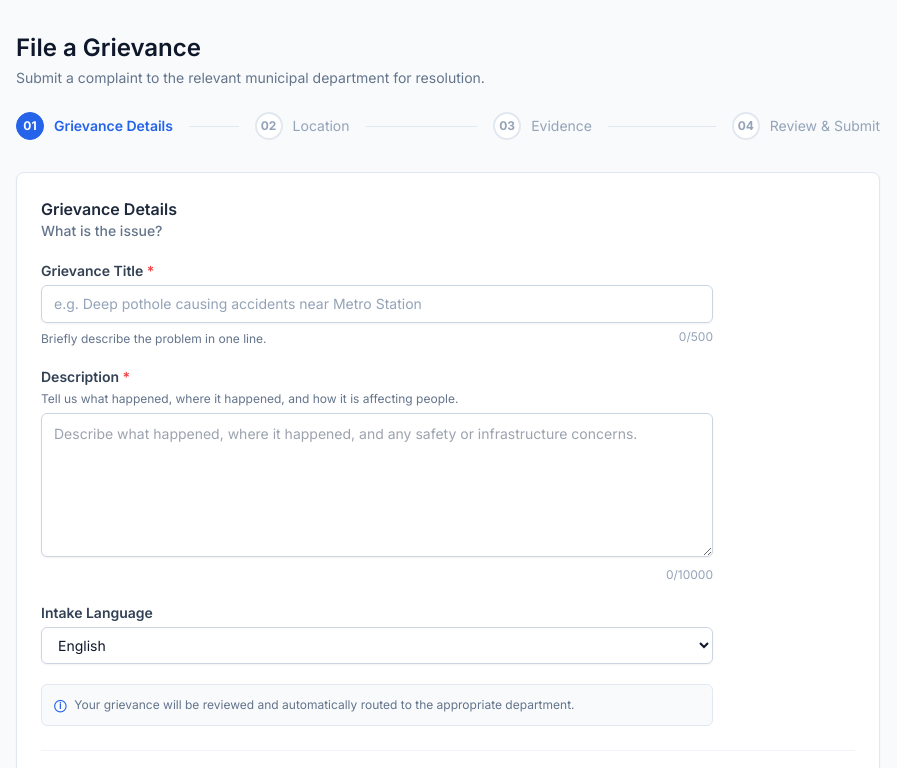
Scenario: Citizen Complaint Form, Hinglish Support & Error Handling › submits Hinglish complaint when Hinglish option is selected
The width and height of the screenshot is (897, 768).
# Select Hinglish
Select "Hinglish (Hindi in Latin script)" in the dropdown: (377, 646) [41,627,713,664]
# Fill details
In the field with placeholder "e.g. Deep pothole causing accidents near Metro Station": (377, 304) [41,285,713,323], type "Water pipeline leak ho rahi hai"
Replace the text in the text box with placeholder "Describe what happened" with "Hamare area mein main water pipeline bahut badly leak ho rahi hai.": (377, 485) [41,413,713,557]
(page scrolled)
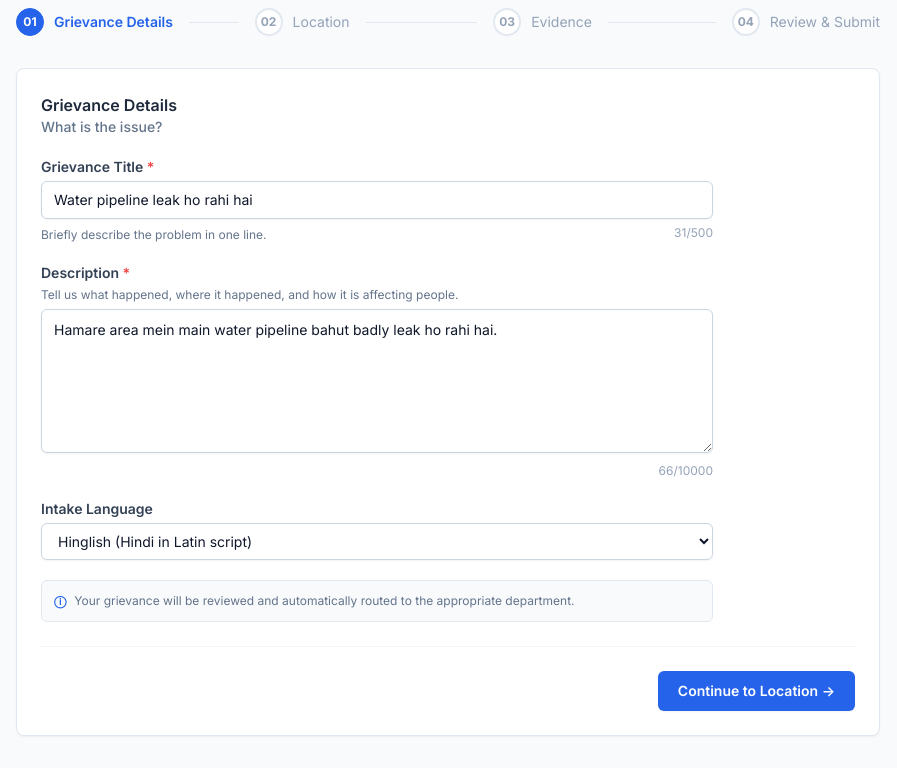
Click the button "Continue to Location →": (756, 691) [658,671,855,711]
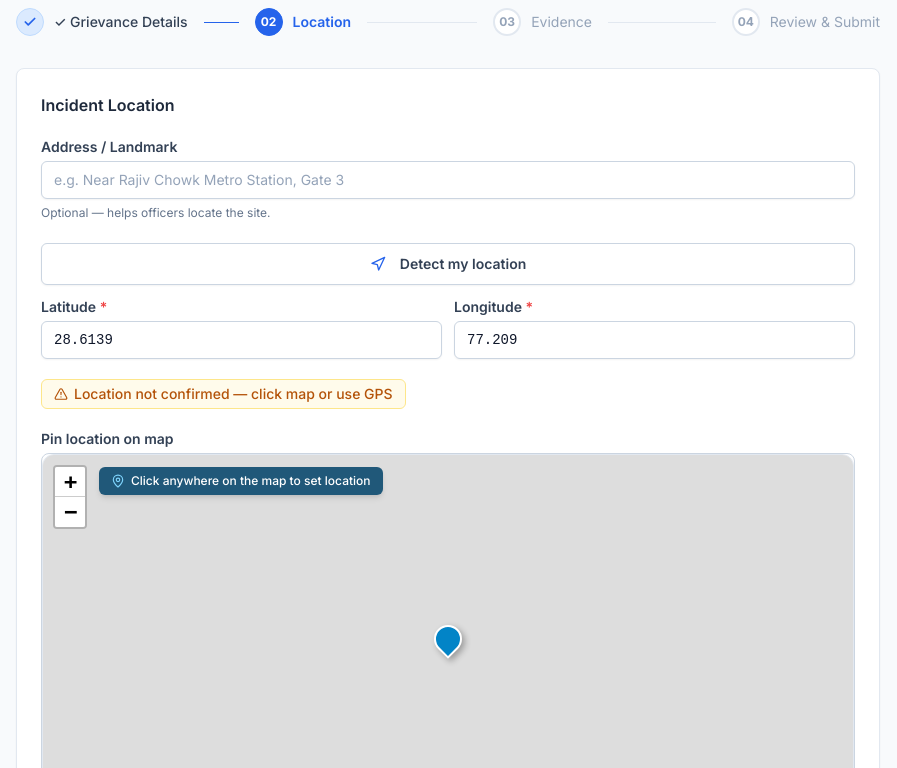
# Confirm location
Replace the text in the number field labelled "Latitude *" with "28.6140": (242, 340) [41,321,442,359]
(page scrolled)
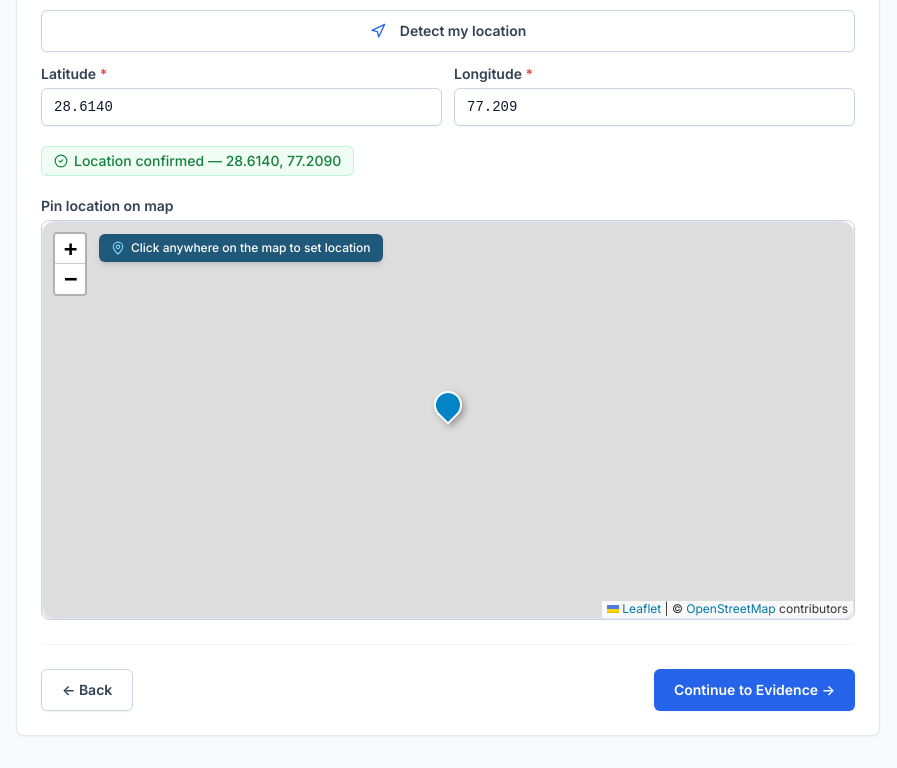
Click the button "Continue to Evidence →": (754, 690) [654,669,855,711]
(page scrolled)
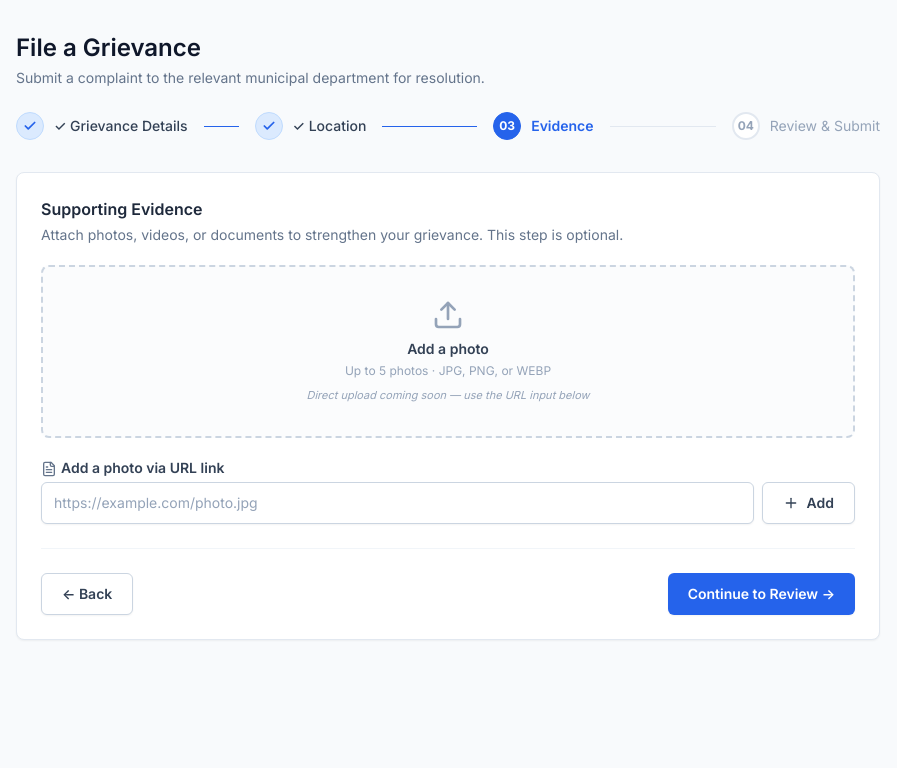
# Step 3 & 4
Click the button "Continue to Review →": (761, 594) [668,572,855,614]
(page scrolled)
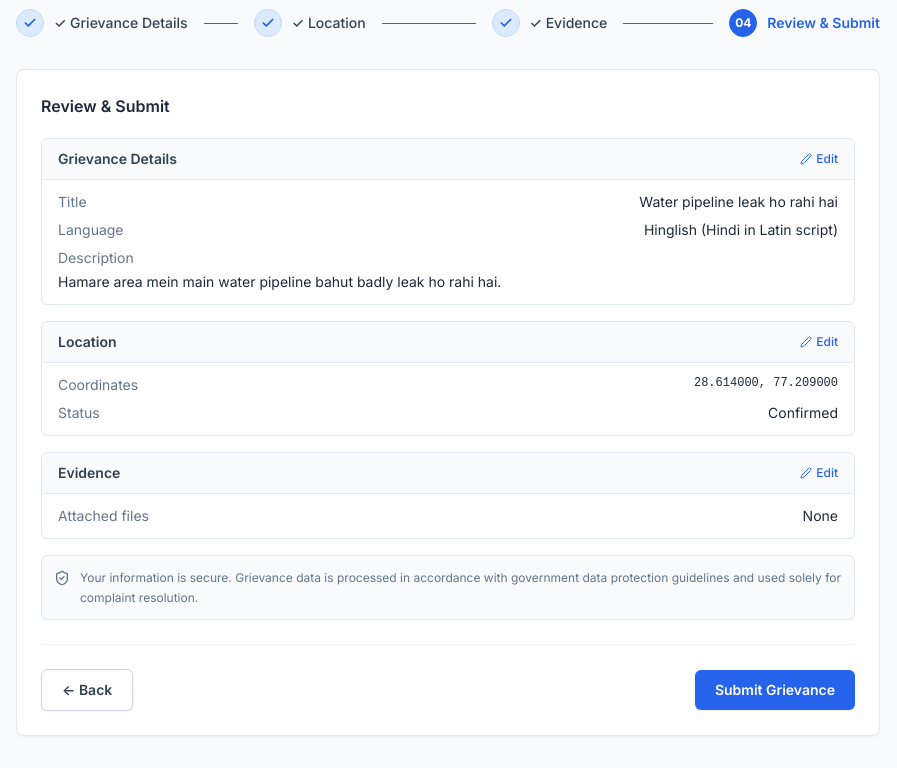
Click the button "Submit Grievance": (775, 690) [695,670,855,710]
(page scrolled)
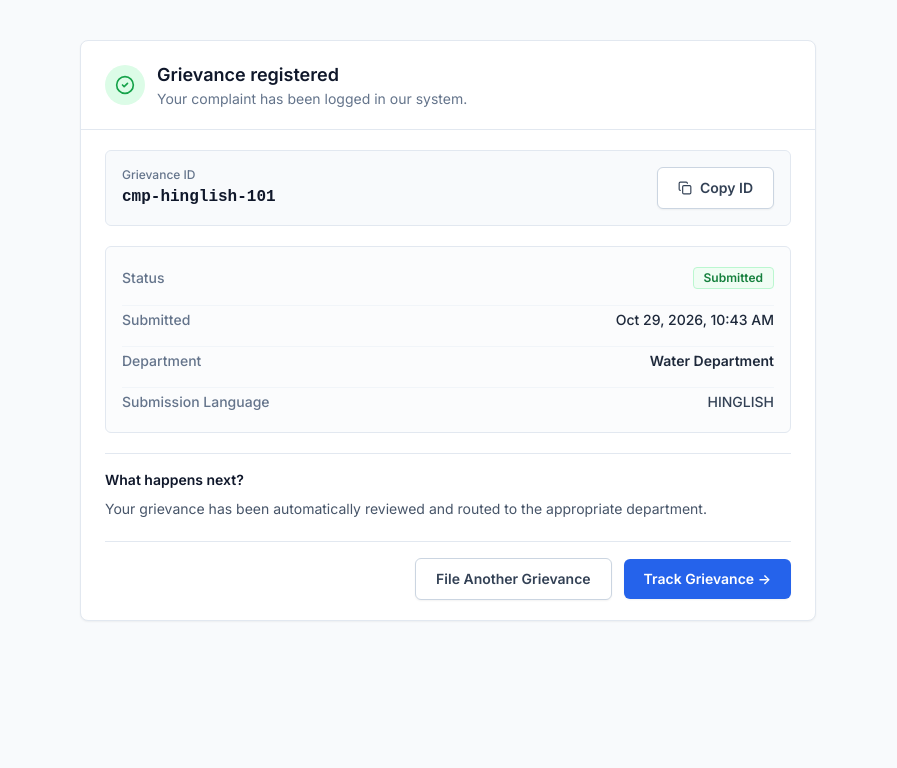
Result: the heading "Grievance registered" is shown at [157,64,339,85]
